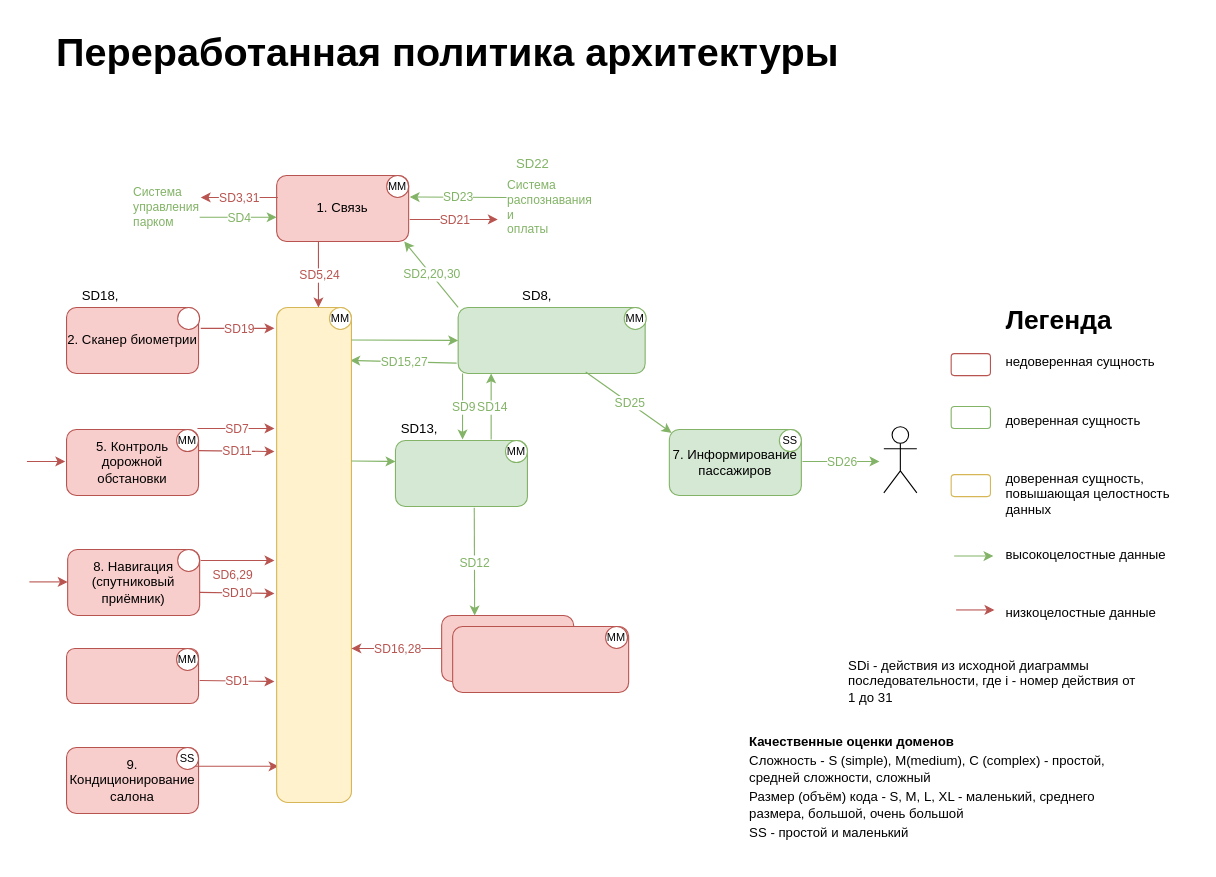
The diagram is 1216 pixels wide and 877 high, and some of its shapes have lost their labels. Here are the shapes that lost their labels. From the top down, the box of each, then its label:
(177, 306, 200, 329): CM
(457, 306, 645, 373): 3. Центральная система управления
(394, 439, 527, 507): 6. Управление перемещением
(883, 426, 917, 493): Пассажиры
(177, 548, 200, 571): CL
(276, 306, 351, 802): 11. Контроль данных
(65, 647, 199, 703): 4. Самодиагностика
(452, 625, 629, 692): 10. Приводы
